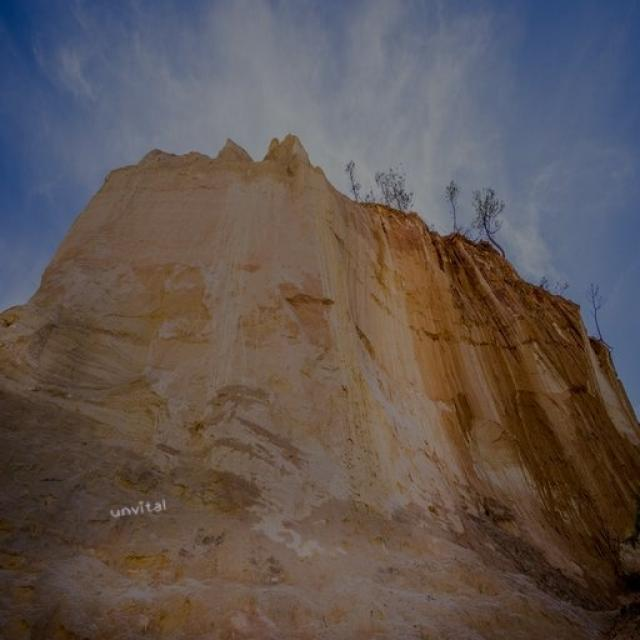watermark: (105, 496, 167, 520)
